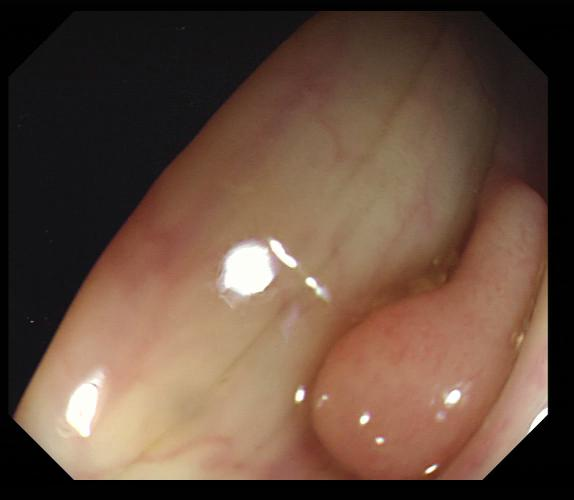polyp: (308, 186, 548, 478)
